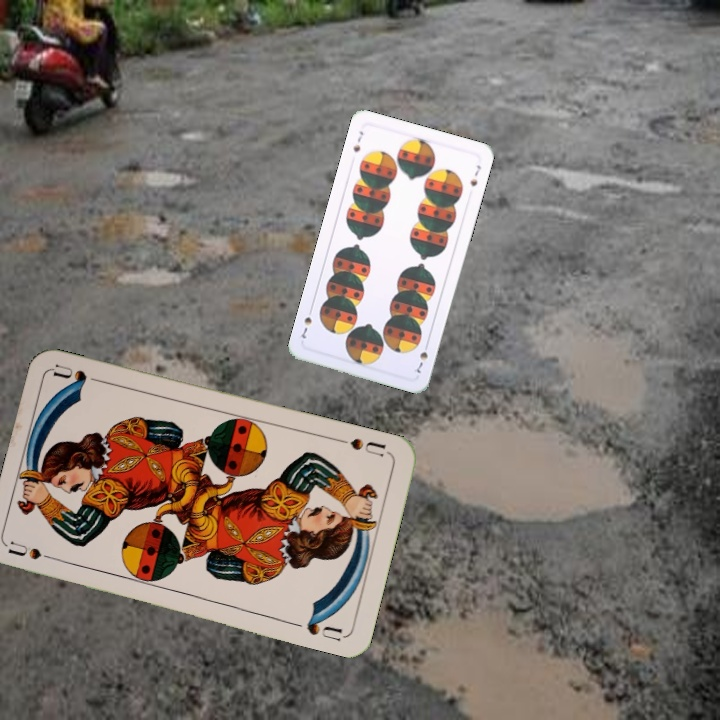S7: (411, 338, 431, 376), (349, 127, 366, 155)
SU: (6, 537, 65, 566), (334, 434, 389, 460)
